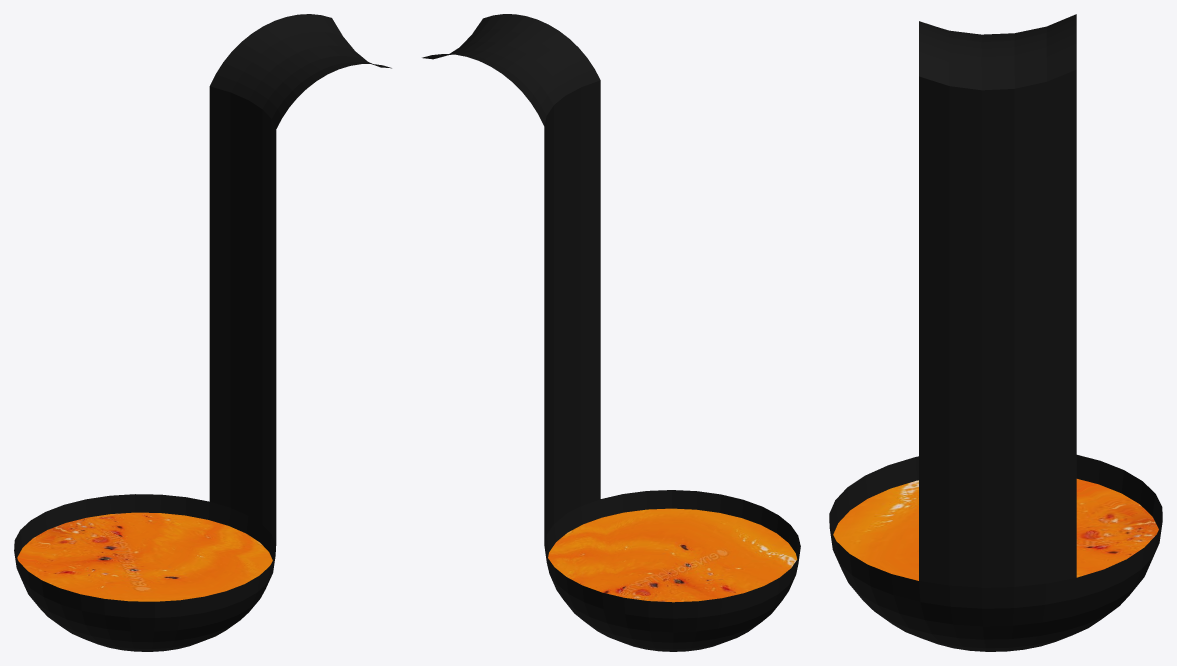
The model's file is cucharon.obj.
The picture shows the model from 3 angles, left to right: view 1: azimuth 30°, elevation 25°; view 2: azimuth 150°, elevation 25°; view 3: azimuth 270°, elevation 25°; orthographic projection. The views are drawn at different scales.
Parts seen in each view (by area): view 1: Esfera; view 2: Esfera; view 3: Esfera.
Part boxes in pixels (bbox=[...]): Esfera: bbox=[14, 14, 391, 651]; Esfera: bbox=[422, 14, 800, 651]; Esfera: bbox=[829, 14, 1162, 651].
Bounding box in the file's own units: 0.1818 × 0.2924 × 0.1235.
